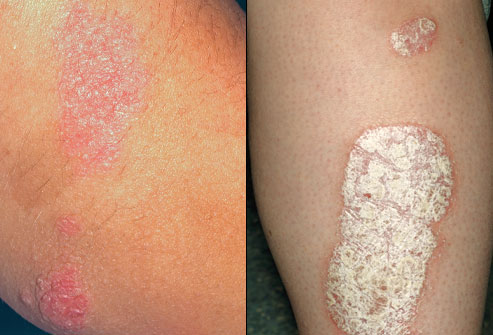Psoriasis: (325, 122, 446, 335), (62, 8, 145, 164)
